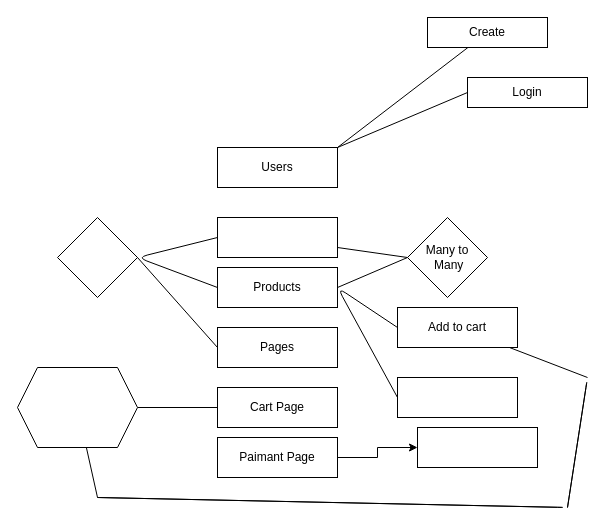
Some shapes in this 606 by 526 pixel diagram are drawn without their labels. The shapes that lost their labels are listed below. From the top down, each one's box as (x1, y1, x2, y2) in pixels, then its label:
(56, 216, 138, 298): CRUD
(216, 216, 338, 258): Categories
(16, 366, 138, 448): Items in Local storage
(396, 376, 518, 418): Filtered by
(416, 426, 538, 468): Paimant service
